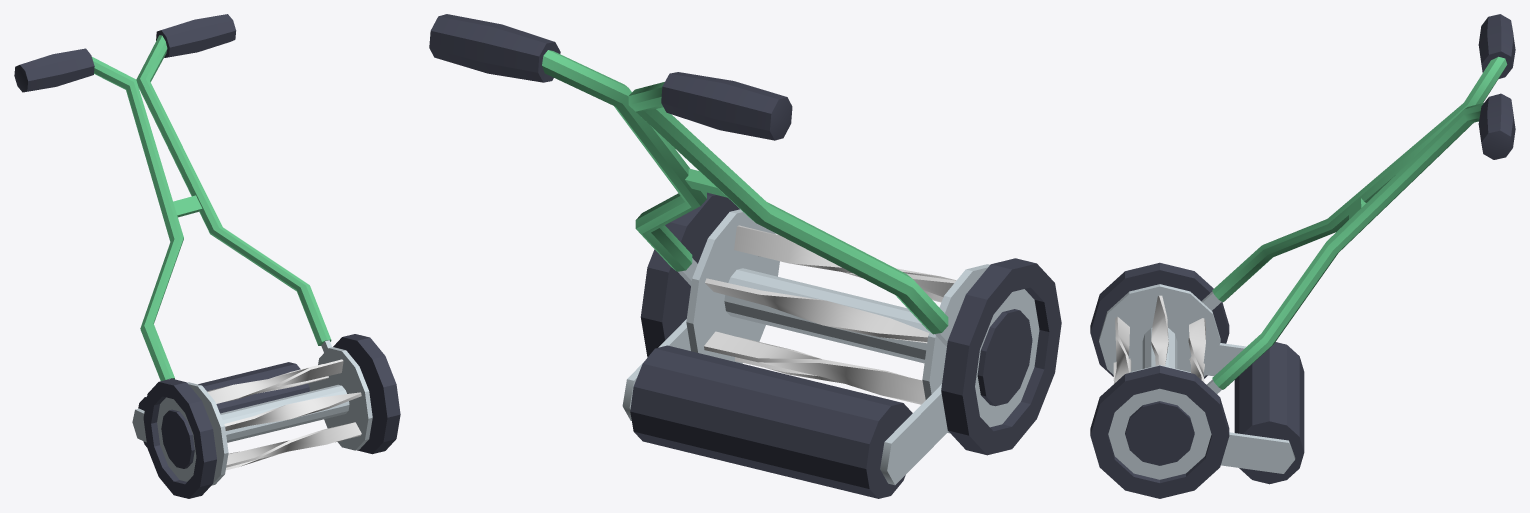
File: Push Lawnmower (1).fbx
3 renders of one model, left to right at view 1: azimuth 30°, elevation 25°; view 2: azimuth 150°, elevation 25°; view 3: azimuth 270°, elevation 25°, orthographic. The views are drawn at different scales.
Visible parts, largest first — view 1: pCube11; view 2: pCube11; view 3: pCube11.
Part boxes in pixels (x1=…): pCube11: x1=14, y1=14, x2=400, y2=498; pCube11: x1=429, y1=14, x2=1061, y2=498; pCube11: x1=1090, y1=14, x2=1515, y2=498.
Bounding box in the file's own units: 16.15 × 23.73 × 24.46.
